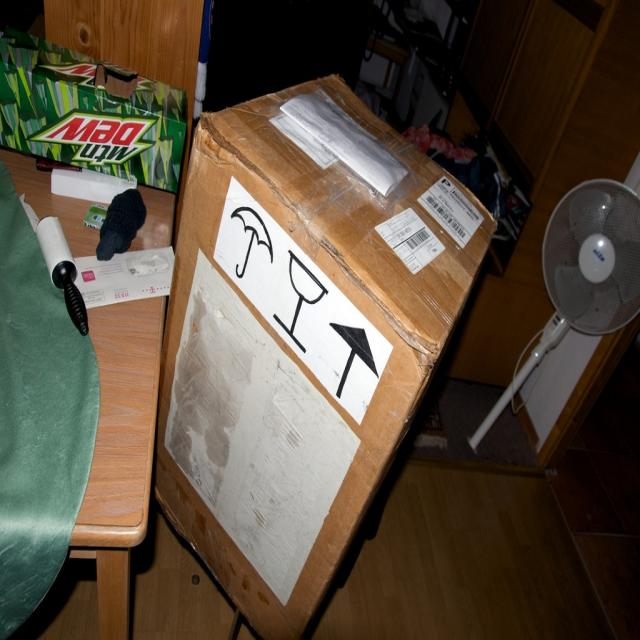desk: (0, 0, 205, 639)
